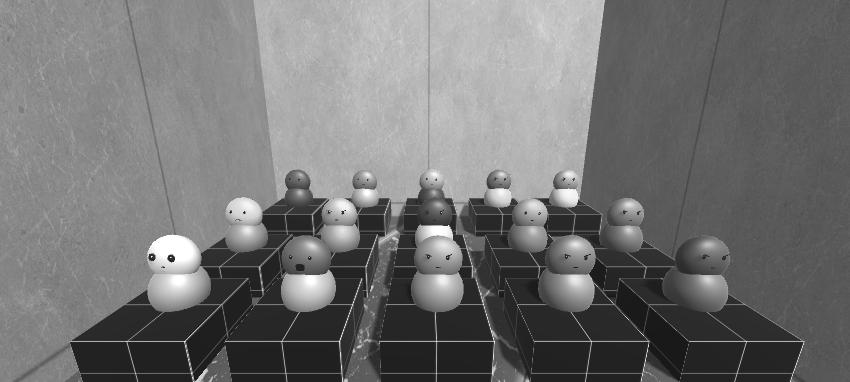blob_atento: (146, 233, 208, 312)
blob_normal: (509, 199, 549, 256), (483, 169, 514, 212), (548, 168, 578, 210), (352, 169, 382, 210), (283, 169, 314, 208), (417, 168, 446, 204)
blob_raiva: (659, 236, 742, 323), (534, 233, 601, 316), (412, 237, 467, 314), (599, 198, 648, 253), (320, 199, 358, 253), (416, 200, 454, 253)
blob_surpreso: (280, 236, 339, 315)
blob_triste: (226, 197, 271, 254)
